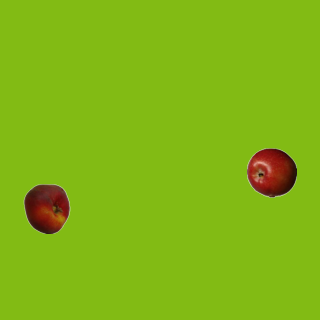Apple Braeburn: (246, 147, 296, 197)
Nectarine Flat: (21, 183, 71, 233)
